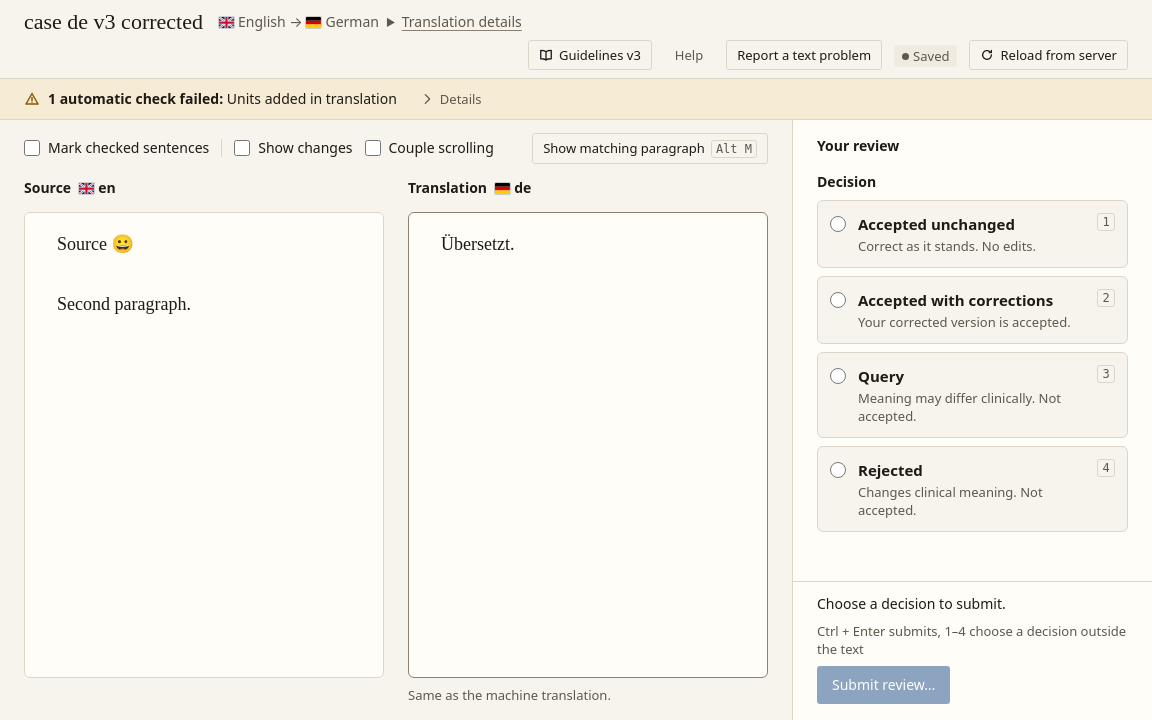
Test case: task guidelines in the task screens › a focus reload after withdrawal removes the button; an open drawer shows v3 was withdrawn by the project lead.
The image size is (1152, 720).
Check: the text box named "Translation (de)" is shown, box x1=409 y1=213 x2=767 y2=677
Step 1. Click the button with aria-label "Guidelines v3, open the project guidelines" → {"x": 590, "y": 55}, box x1=528 y1=40 x2=652 y2=70
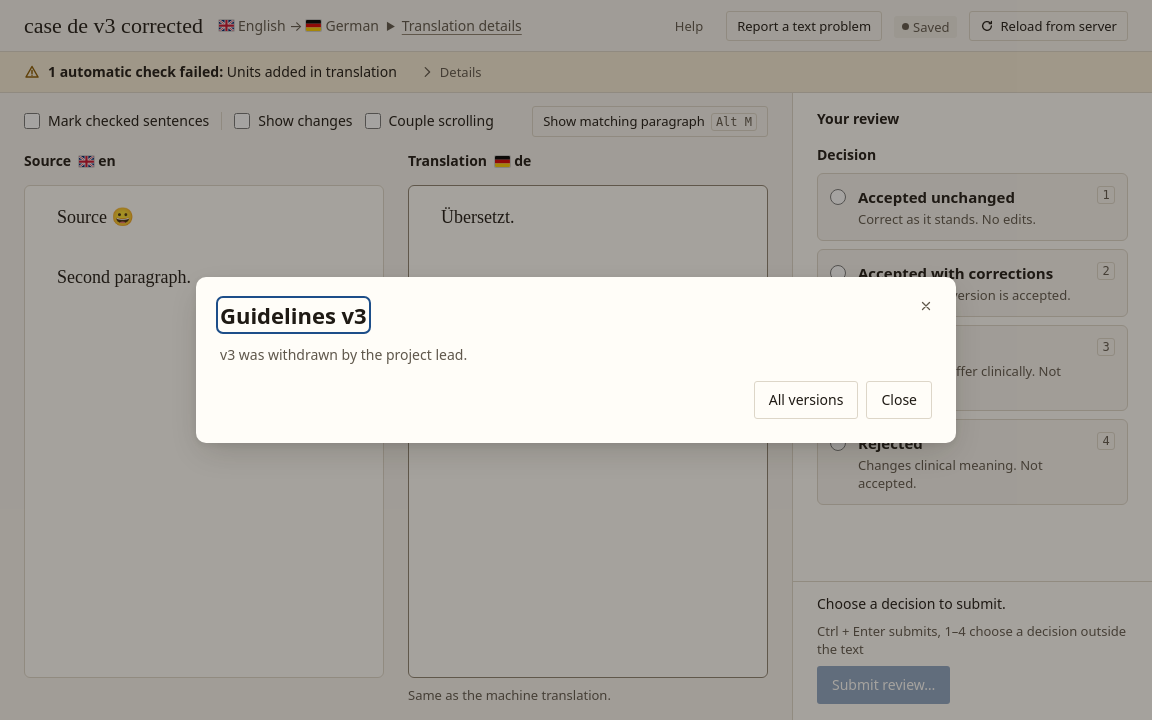
Check: the text "v3 was withdrawn by the project lead." is shown, box x1=220 y1=345 x2=467 y2=364
